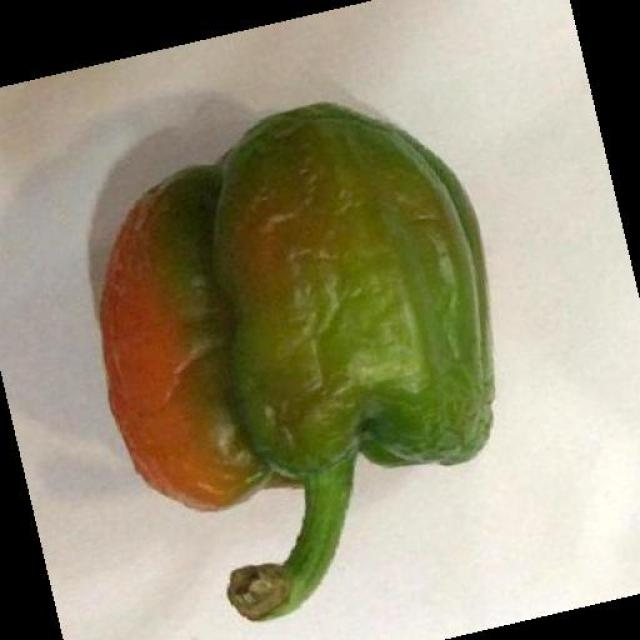Stale_Capsicum: (87, 96, 520, 516)
